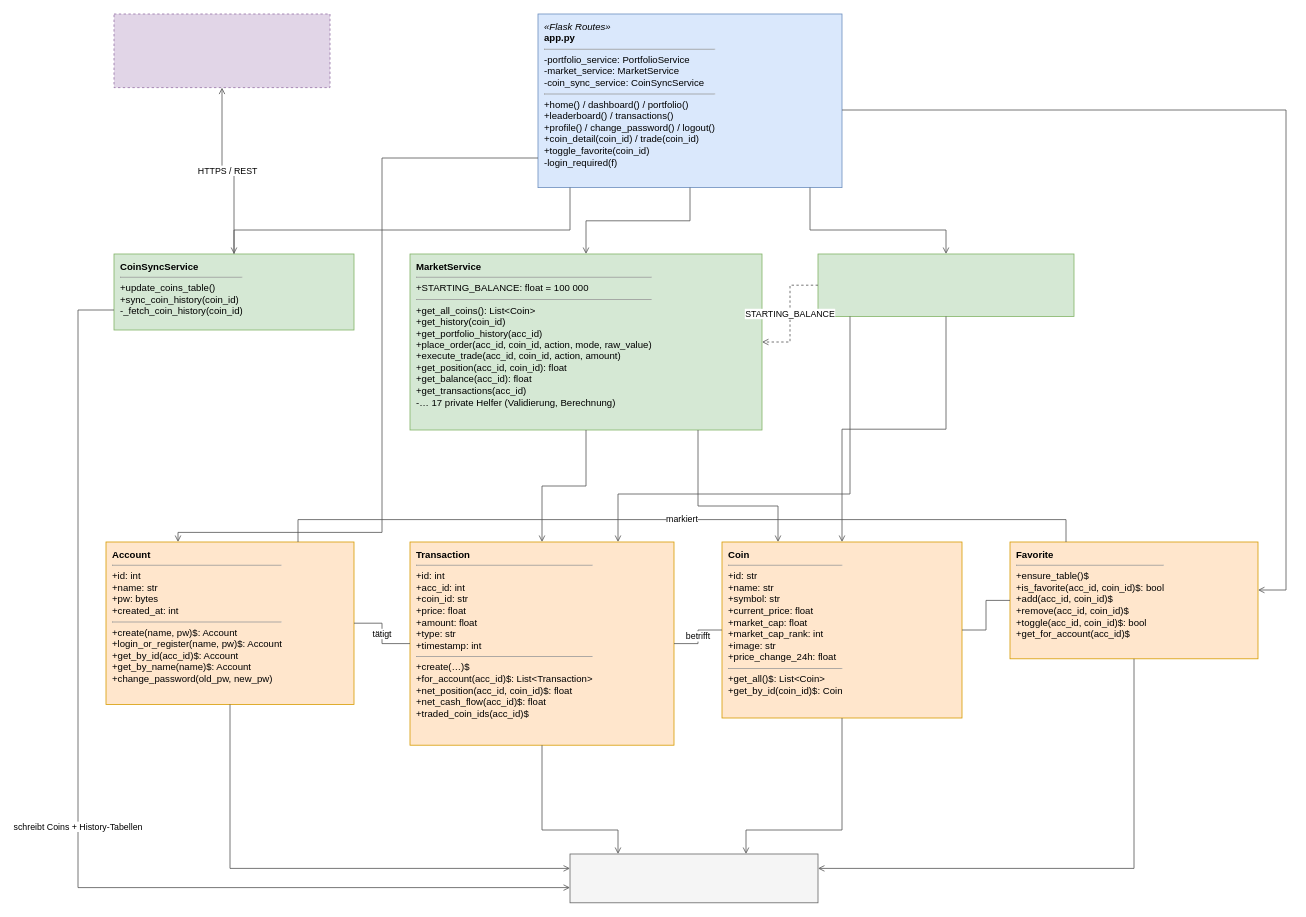
This 1306x917 diagram has some shape labels left out. Each missing label, with the centre of its shape:
"Database +get_connection()$: Connection {SQLite, WAL}" goes at [693,878].
"PortfolioService +get_portfolio_overview(acc_id) +get_leaderboard()" goes at [945,284].
"«extern» CoinGecko API GET /coins/markets GET /coins/{id}/market_chart" goes at [221,50].
